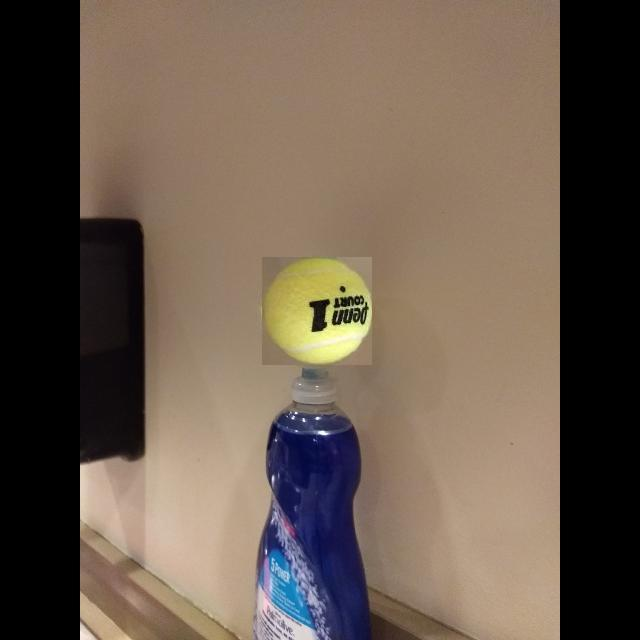tennis ball: (262, 257, 372, 365)
